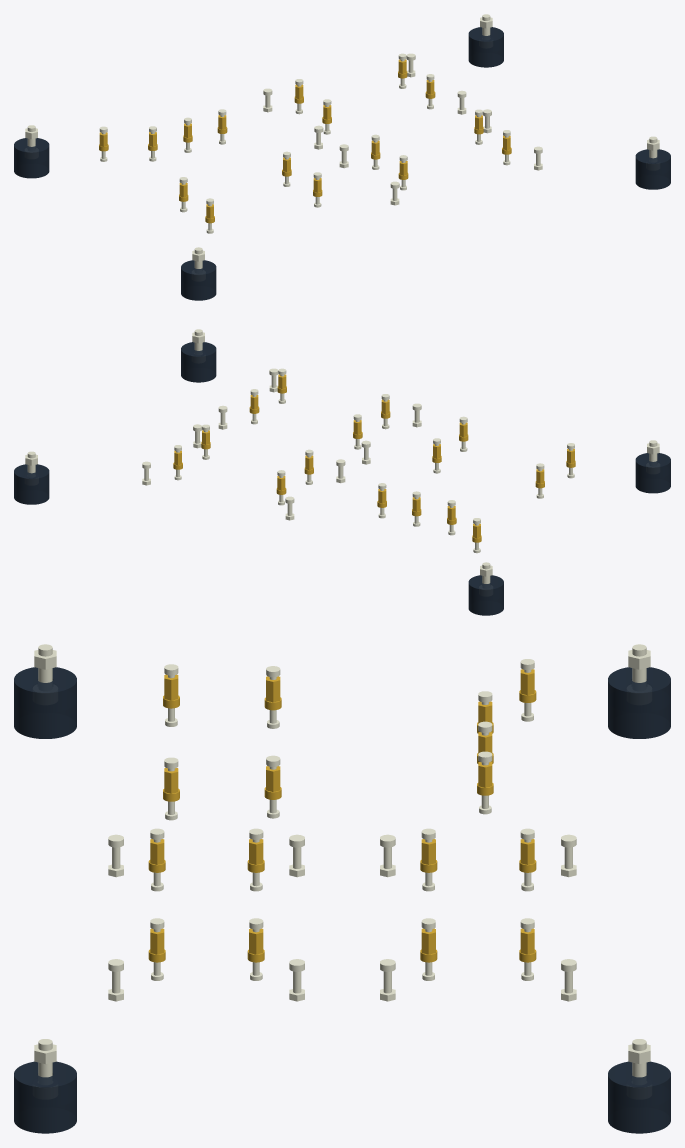
Rendered from HR30_E1_fixture_hardware_candidate.glb.
3 renders of one model, top to bottom at view 1: azimuth 30°, elevation 25°; view 2: azimuth 150°, elevation 25°; view 3: azimuth 270°, elevation 25°, orthographic. The views are drawn at different scales.
Parts seen in each view (by area): view 1: FOOT_RISER_AND_SJ5309_01, FOOT_RISER_AND_SJ5309_02, FOOT_RISER_AND_SJ5309_03, FOOT_RISER_AND_SJ5309_04; view 2: FOOT_RISER_AND_SJ5309_02, FOOT_RISER_AND_SJ5309_01, FOOT_RISER_AND_SJ5309_03, FOOT_RISER_AND_SJ5309_04; view 3: FOOT_RISER_AND_SJ5309_03, FOOT_RISER_AND_SJ5309_04, FOOT_RISER_AND_SJ5309_01, FOOT_RISER_AND_SJ5309_02, FOOT_M5_SCREW_AND_NUT_01, FOOT_M5_SCREW_AND_NUT_02, FOOT_M5_SCREW_AND_NUT_03, FOOT_M5_SCREW_AND_NUT_04.
Boxes of the visible parts, <box> form: FOOT_RISER_AND_SJ5309_01: <box>181,260,216,300</box>; FOOT_RISER_AND_SJ5309_02: <box>14,138,49,178</box>; FOOT_RISER_AND_SJ5309_03: <box>635,149,670,189</box>; FOOT_RISER_AND_SJ5309_04: <box>468,27,503,67</box>; FOOT_RISER_AND_SJ5309_02: <box>468,575,503,615</box>; FOOT_RISER_AND_SJ5309_01: <box>635,453,670,493</box>; FOOT_RISER_AND_SJ5309_03: <box>181,342,216,382</box>; FOOT_RISER_AND_SJ5309_04: <box>14,464,49,504</box>; FOOT_RISER_AND_SJ5309_03: <box>14,1061,76,1133</box>; FOOT_RISER_AND_SJ5309_04: <box>608,1061,670,1133</box>; FOOT_RISER_AND_SJ5309_01: <box>14,667,76,738</box>; FOOT_RISER_AND_SJ5309_02: <box>608,667,670,738</box>; FOOT_M5_SCREW_AND_NUT_01: <box>34,644,56,682</box>; FOOT_M5_SCREW_AND_NUT_02: <box>628,644,650,682</box>; FOOT_M5_SCREW_AND_NUT_03: <box>34,1039,56,1077</box>; FOOT_M5_SCREW_AND_NUT_04: <box>628,1039,650,1077</box>.
Size of the model in its own units: 352 by 38.7 by 232.
